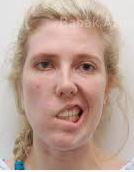strokeEyeWeak: (29, 49, 104, 77)
strokeMouthSevere: (49, 98, 91, 129)
